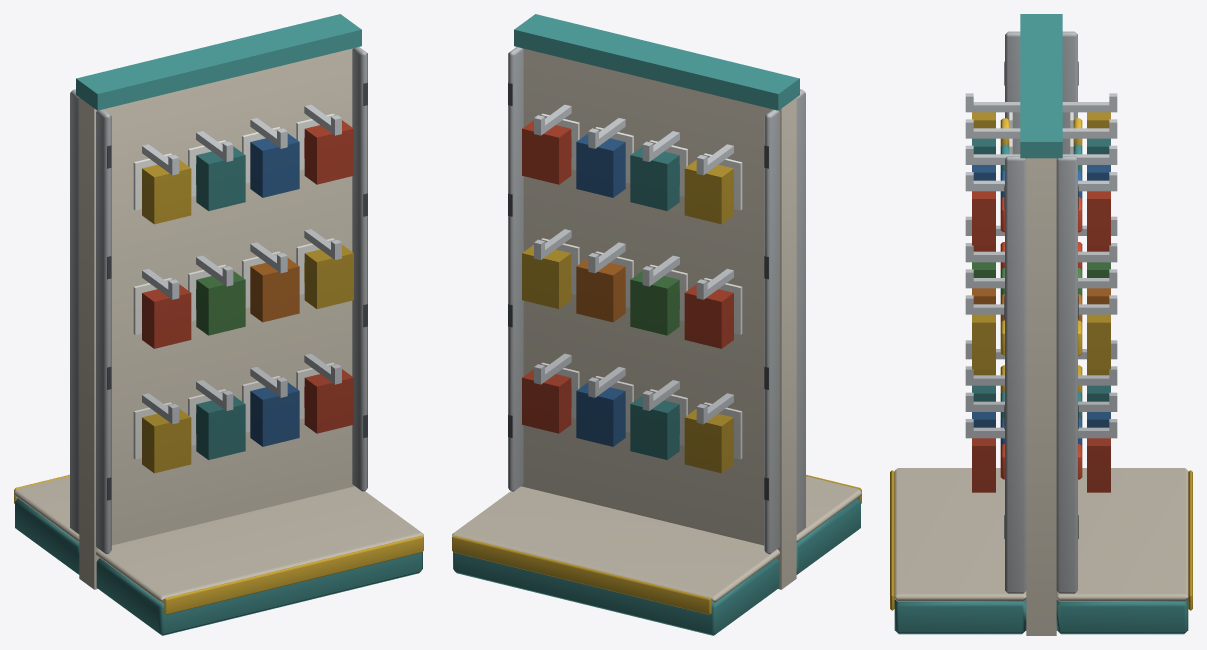
Rendered from Gondola_Island_Peg_10_Stocked.glb.
3 renders of one model, left to right at view 1: azimuth 30°, elevation 25°; view 2: azimuth 150°, elevation 25°; view 3: azimuth 270°, elevation 25°, orthographic.
Visible parts, largest first — view 1: SM_Gondola_Island_Peg_10_Stocked; view 2: SM_Gondola_Island_Peg_10_Stocked; view 3: SM_Gondola_Island_Peg_10_Stocked.
Boxes of the visible parts, box(x1,y1,x2,y2) form: SM_Gondola_Island_Peg_10_Stocked: box(14, 14, 423, 635); SM_Gondola_Island_Peg_10_Stocked: box(452, 14, 861, 635); SM_Gondola_Island_Peg_10_Stocked: box(890, 14, 1192, 635).
Size of the model in its own units: 1 by 1.8 by 1.
1 material, 1 textured.
